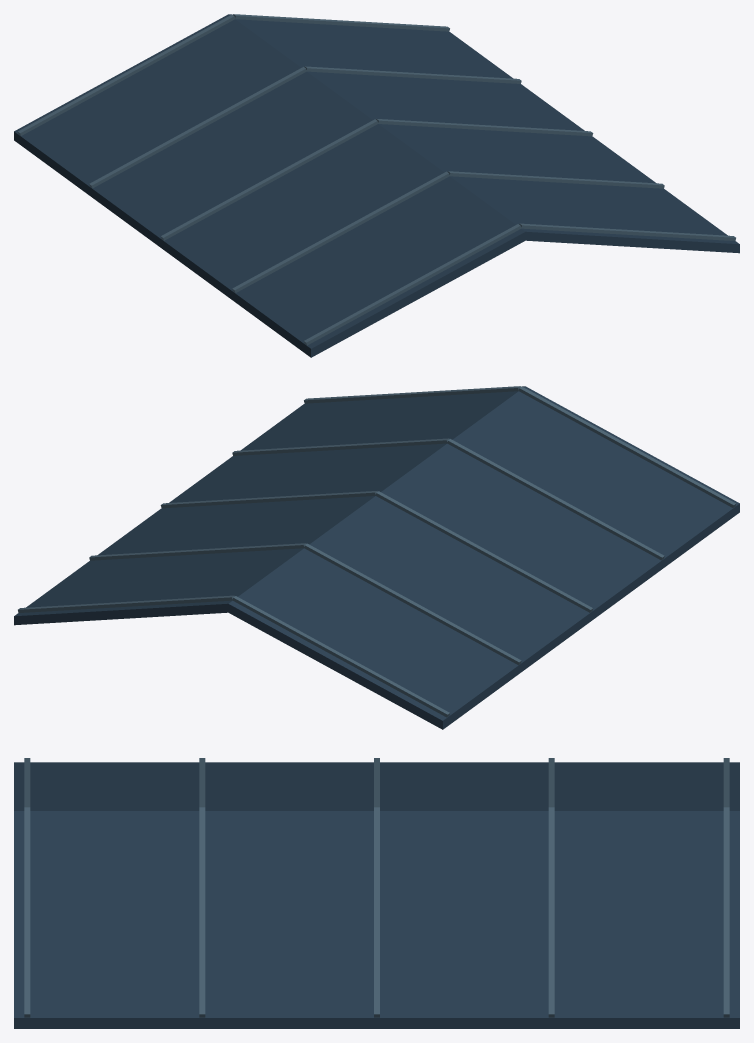
Rendered from PirateCove_CaptainsRoof_Standard.glb.
The picture shows the model from 3 angles, top to bottom: view 1: azimuth 30°, elevation 25°; view 2: azimuth 150°, elevation 25°; view 3: azimuth 270°, elevation 25°; orthographic projection. The views are drawn at different scales.
Parts seen in each view (by area): view 1: PirateCove_CaptainsRoof_Standard; view 2: PirateCove_CaptainsRoof_Standard; view 3: PirateCove_CaptainsRoof_Standard.
Part boxes in pixels (x1,y1,x2,y2): PirateCove_CaptainsRoof_Standard: (14,14,739,357); PirateCove_CaptainsRoof_Standard: (14,386,739,729); PirateCove_CaptainsRoof_Standard: (14,758,739,1028).
Size of the model in its own units: 9.02 by 1.54 by 10.8.
